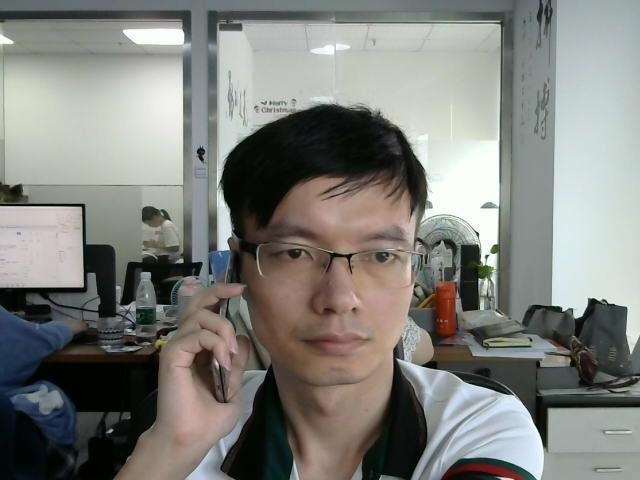hand: (149, 274, 251, 438)
